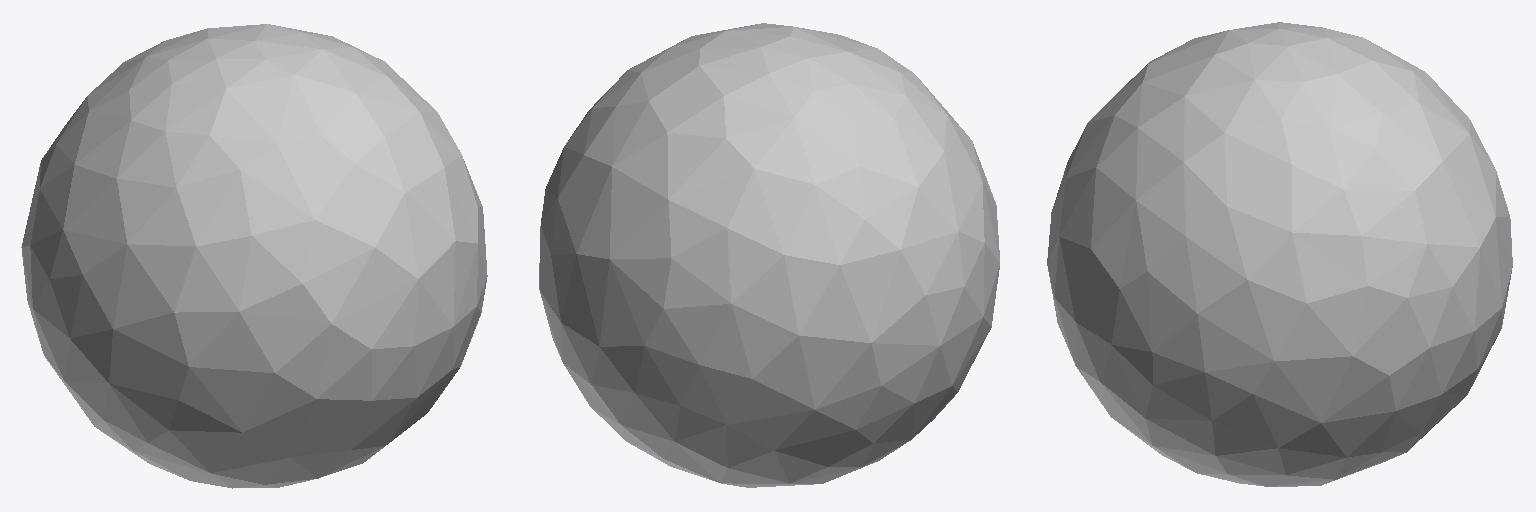
File: Venus.obj
3 views of the same model, side by side, from view 1: azimuth 30°, elevation 25°; view 2: azimuth 150°, elevation 25°; view 3: azimuth 270°, elevation 25° (orthographic).
Parts seen in each view (by area): view 1: Venus_Sphere.010; view 2: Venus_Sphere.010; view 3: Venus_Sphere.010.
Part boxes in pixels (left/top/right/bottom): Venus_Sphere.010: left=21, top=24, right=487, bottom=488; Venus_Sphere.010: left=539, top=23, right=999, bottom=487; Venus_Sphere.010: left=1047, top=22, right=1512, bottom=486.
Size of the model in its own units: 2 by 2 by 2.